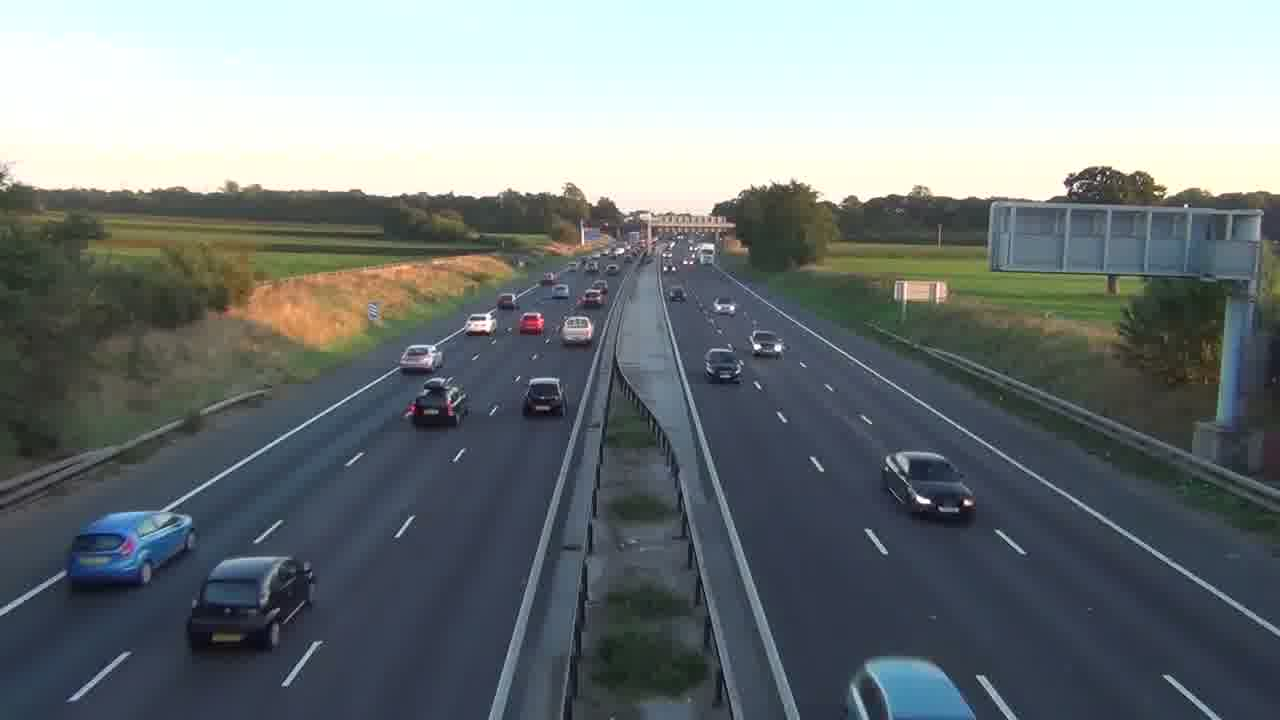car: (186, 554, 317, 651), (65, 509, 196, 588), (844, 656, 976, 719), (881, 449, 977, 522), (406, 387, 468, 428), (523, 377, 565, 416), (703, 346, 744, 383), (399, 343, 438, 373), (559, 314, 594, 345), (750, 329, 786, 359), (518, 313, 545, 335)
truck: (186, 554, 317, 651)
